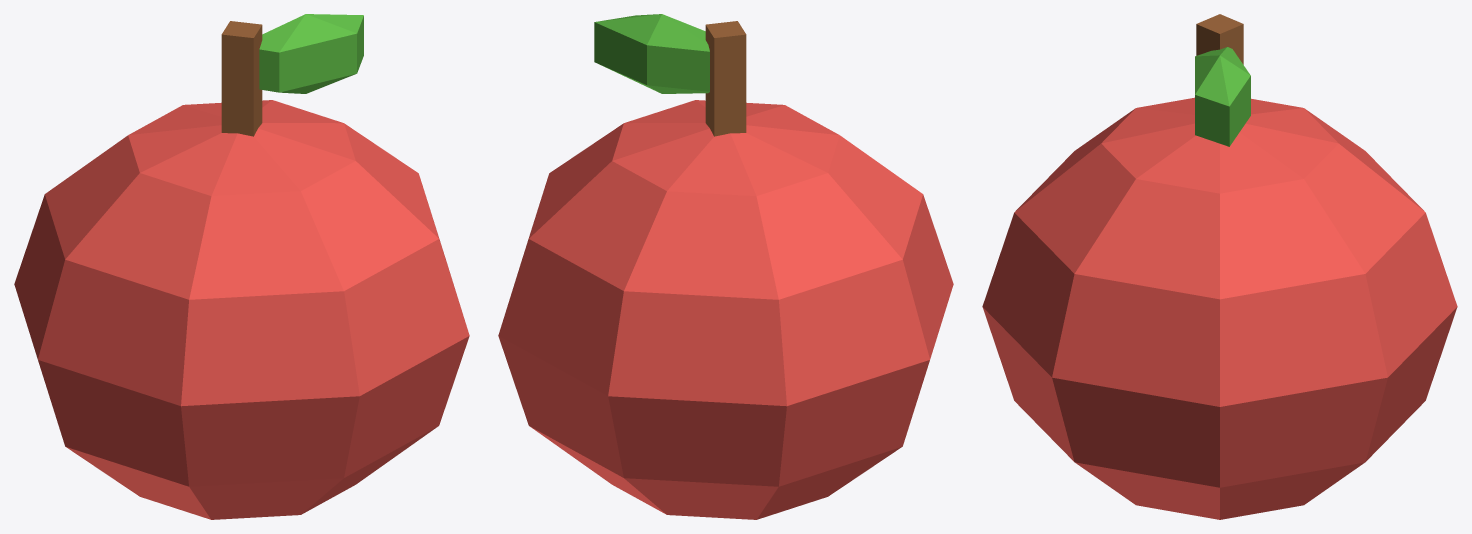
The model's file is good_apple.glb.
The picture shows the model from 3 angles, left to right: view 1: azimuth 30°, elevation 25°; view 2: azimuth 150°, elevation 25°; view 3: azimuth 270°, elevation 25°; orthographic projection.
Parts seen in each view (by area): view 1: good_apple; view 2: good_apple; view 3: good_apple.
Part boxes in pixels (<box>): good_apple: <box>14,14,469,519</box>; good_apple: <box>498,14,953,519</box>; good_apple: <box>982,14,1457,519</box>.
Size of the model in its own units: 0.16 by 0.175 by 0.16.
